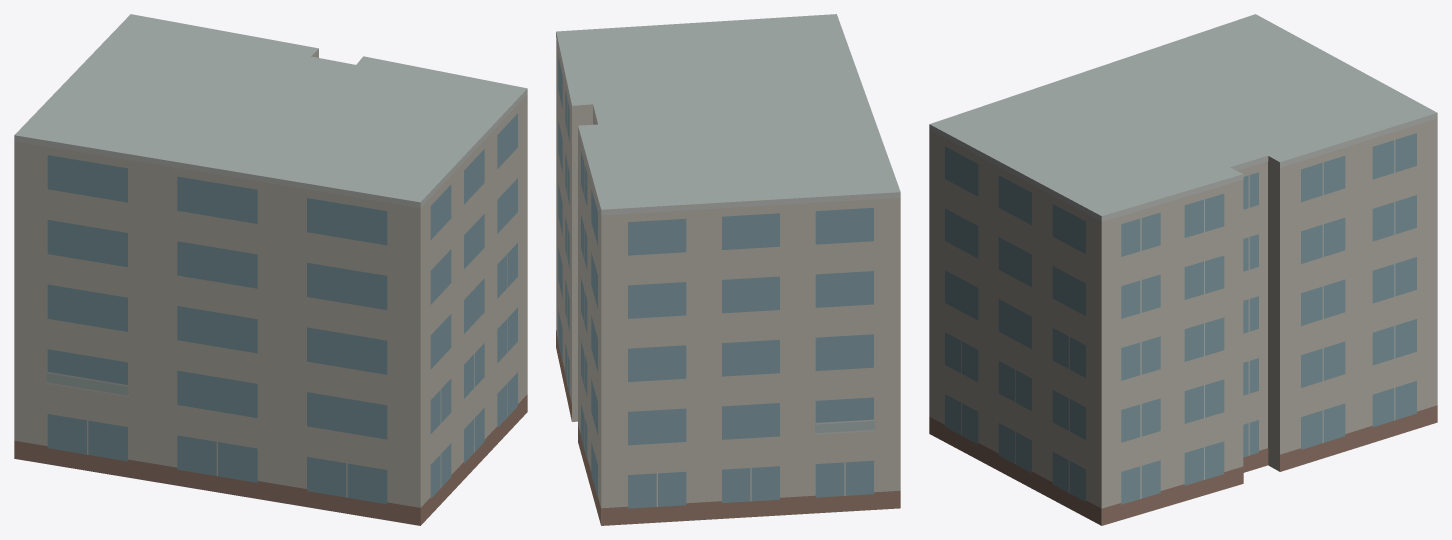
The model's file is survey-upis-32740712.glb.
The picture shows the model from 3 angles, left to right: view 1: azimuth 30°, elevation 25°; view 2: azimuth 150°, elevation 25°; view 3: azimuth 270°, elevation 25°; orthographic projection. The views are drawn at different scales.
Visible parts, largest first — view 1: survey-upis-32740712.tmp; view 2: survey-upis-32740712.tmp; view 3: survey-upis-32740712.tmp.
Part boxes in pixels (<box>): survey-upis-32740712.tmp: <box>14,14,527,525</box>; survey-upis-32740712.tmp: <box>556,14,900,525</box>; survey-upis-32740712.tmp: <box>929,14,1437,525</box>.
Size of the model in its own units: 18.84 by 13.44 by 20.01.
